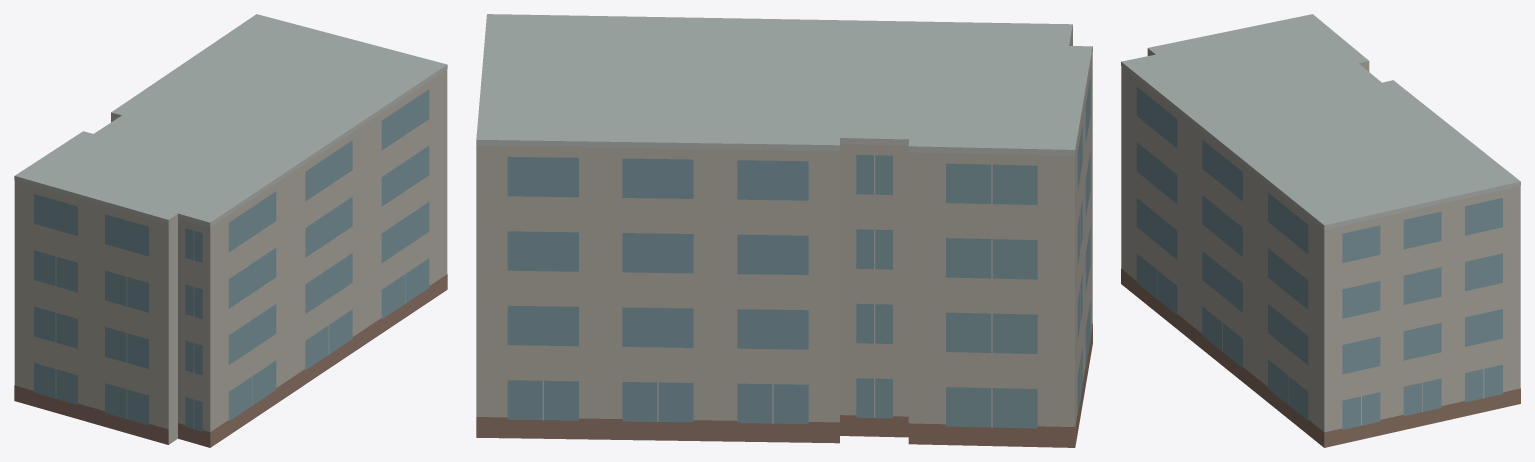
The model's file is survey-upis-33026024.glb.
The picture shows the model from 3 angles, left to right: view 1: azimuth 30°, elevation 25°; view 2: azimuth 150°, elevation 25°; view 3: azimuth 270°, elevation 25°; orthographic projection. The views are drawn at different scales.
Parts seen in each view (by area): view 1: survey-upis-33026024.tmp; view 2: survey-upis-33026024.tmp; view 3: survey-upis-33026024.tmp.
Part boxes in pixels (x1,y1,x2,y2): survey-upis-33026024.tmp: (14,14,447,447); survey-upis-33026024.tmp: (476,14,1092,447); survey-upis-33026024.tmp: (1121,14,1520,447).
Bounding box in the file's own units: 24.58 × 12.05 × 19.63.
